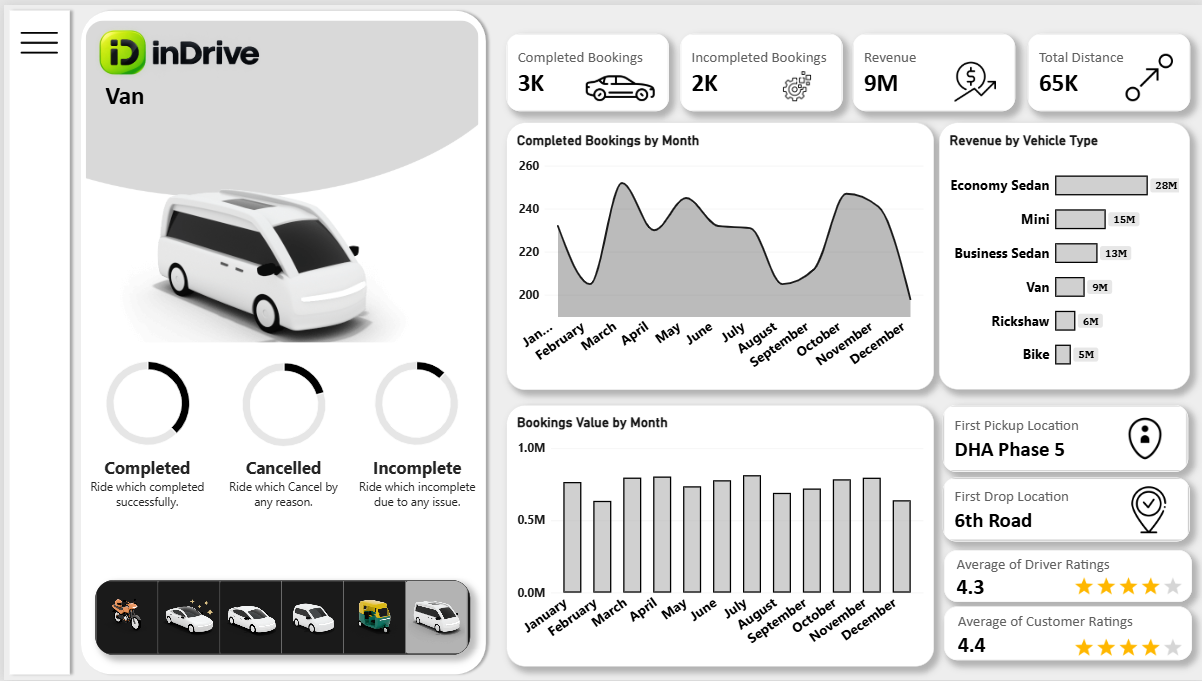

Layout of this report page (visuals, bound fields, positions):
{"tool":"powerbi","page":{"name":"Overview","canvas":[1920,1080],"ordinal":1},"visuals":[{"type":"shape","box":[0,0,114,1080],"z":0},{"type":"image","box":[18,24,80,75.7],"z":1000},{"type":"shape","box":[114,0,666,1080],"z":2000},{"type":"image","box":[130,24,630,478],"z":3000},{"type":"cardVisual","fields":{"Data":["Min(Veh_IMG.Vehicle Type)"]},"box":[14,46,792,494],"z":4000},{"type":"image","box":[146,24,264,106],"z":5000},{"type":"cardVisual","fields":{"Data":["Indrive data.Completed_Bookings"]},"box":[804,46,260,124],"z":6000},{"type":"cardVisual","fields":{"Data":["Indrive data.Incomplete Bookings"]},"box":[1082,46,260,124],"z":7000},{"type":"cardVisual","fields":{"Data":["Indrive data.Bookings Value"]},"box":[1358,46,260,124],"z":8000},{"type":"cardVisual","fields":{"Data":["Indrive data.Total Distance"]},"box":[1638,46,260,124],"z":9000},{"type":"advancedSlicerVisual","fields":{"Values":["Veh_IMG.Vehicle Type"]},"box":[146,920,600,120],"z":10000},{"type":"cardVisual","fields":{"Data":["Min(Veh_IMG.Vehicle Type)"]},"box":[146,100,348,88],"z":11000},{"type":"areaChart","title":"Completed Bookings by Month","fields":{"Category":["Indrive data.Date.Variation.Date Hierarchy.Month"],"Y":["Indrive data.Completed_Bookings"]},"box":[804,188,684,428],"z":12000},{"type":"clusteredColumnChart","fields":{"Category":["Indrive data.Date.Variation.Date Hierarchy.Month"],"Y":["Indrive data.Bookings Value"]},"box":[804,640,684,418],"z":13000},{"type":"clusteredBarChart","title":"Revenue by Vehicle Type","fields":{"Category":["Veh_IMG.Vehicle Type"],"Y":["Indrive data.Bookings Value"]},"box":[1496.2,187.5,401.2,427.5],"z":14000},{"type":"cardVisual","fields":{"Data":["Min(Indrive data.Pickup Location)"]},"box":[1502.5,640,392.5,107.5],"z":15000},{"type":"cardVisual","fields":{"Data":["Min(Indrive data.Drop Location)"]},"box":[1502,756,395,102.5],"z":16000},{"type":"image","box":[1767.5,650,115,87.5],"z":17000},{"type":"image","box":[1774,770,115,75],"z":18000},{"type":"image","box":[905,77.5,160,110],"z":19000},{"type":"image","box":[1212,106,114,48],"z":20000},{"type":"shape","box":[1503.3,871.7,396.7,83.3],"z":21000},{"type":"shape","box":[1503.3,961.7,396.7,86.7],"z":21500},{"type":"image","box":[1496,88,116,66],"z":22000},{"type":"image","box":[1768,78,128,76],"z":24000},{"type":"cardVisual","fields":{"Data":["Avg(Indrive data.Driver Ratings)"]},"box":[1508,876,324,80],"z":25000},{"type":"cardVisual","fields":{"Data":["Avg(Indrive data.Customer Rating)"]},"box":[1510,970,322,78],"z":26000},{"type":"image","box":[1712,882,174,98],"z":26002},{"type":"image","box":[1712,980,174,98],"z":26003},{"type":"donutChart","fields":{"Y":["Indrive data.Unique Booking Count","Indrive data.Remove_Bookings_Status"]},"box":[130,538,200,200],"z":26004},{"type":"donutChart","fields":{"Y":["Indrive data.Unique Booking Count","Indrive data.Remove_Bookings_Status"]},"box":[348,540,200,200],"z":26005},{"type":"donutChart","fields":{"Y":["Indrive data.Unique Booking Count","Indrive data.Remove_Bookings_Status"]},"box":[560,538,200,200],"z":26006},{"type":"textbox","box":[128,722,202,138],"z":26007},{"type":"textbox","box":[560,722,202,138],"z":26008},{"type":"textbox","box":[346,722,202,138],"z":26009}]}

Visuals, with their boxes in screenshot pixels (x1, y1, x2, y2), scaled from the page's 1920x1080 canvas onto the 1202x681 screenshot:
shape: x1=0, y1=0, x2=71, y2=680
image: x1=11, y1=15, x2=61, y2=63
shape: x1=71, y1=0, x2=488, y2=680
image: x1=81, y1=15, x2=476, y2=317
cardVisual - Min(Veh_IMG.Vehicle Type): x1=9, y1=29, x2=505, y2=340
image: x1=91, y1=15, x2=257, y2=82
cardVisual - Indrive data.Completed_Bookings: x1=503, y1=29, x2=666, y2=107
cardVisual - Indrive data.Incomplete Bookings: x1=677, y1=29, x2=840, y2=107
cardVisual - Indrive data.Bookings Value: x1=850, y1=29, x2=1013, y2=107
cardVisual - Indrive data.Total Distance: x1=1025, y1=29, x2=1188, y2=107
advancedSlicerVisual - Veh_IMG.Vehicle Type: x1=91, y1=580, x2=467, y2=656
cardVisual - Min(Veh_IMG.Vehicle Type): x1=91, y1=63, x2=309, y2=119
"Completed Bookings by Month" areaChart: x1=503, y1=119, x2=932, y2=388
clusteredColumnChart - Indrive data.Date.Variation.Date Hierarchy.Month x Indrive data.Bookings Value: x1=503, y1=404, x2=932, y2=667
"Revenue by Vehicle Type" clusteredBarChart: x1=937, y1=118, x2=1188, y2=388
cardVisual - Min(Indrive data.Pickup Location): x1=941, y1=404, x2=1186, y2=471
cardVisual - Min(Indrive data.Drop Location): x1=940, y1=477, x2=1188, y2=541
image: x1=1107, y1=410, x2=1179, y2=465
image: x1=1111, y1=486, x2=1183, y2=533
image: x1=567, y1=49, x2=667, y2=118
image: x1=759, y1=67, x2=830, y2=97
shape: x1=941, y1=550, x2=1189, y2=602
shape: x1=941, y1=606, x2=1189, y2=661
image: x1=937, y1=55, x2=1009, y2=97
image: x1=1107, y1=49, x2=1187, y2=97
cardVisual - Avg(Indrive data.Driver Ratings): x1=944, y1=552, x2=1147, y2=603
cardVisual - Avg(Indrive data.Customer Rating): x1=945, y1=612, x2=1147, y2=661
image: x1=1072, y1=556, x2=1181, y2=618
image: x1=1072, y1=618, x2=1181, y2=680
donutChart - Indrive data.Unique Booking Count x Indrive data.Remove_Bookings_Status: x1=81, y1=339, x2=207, y2=465
donutChart - Indrive data.Unique Booking Count x Indrive data.Remove_Bookings_Status: x1=218, y1=340, x2=343, y2=467
donutChart - Indrive data.Unique Booking Count x Indrive data.Remove_Bookings_Status: x1=351, y1=339, x2=476, y2=465
textbox: x1=80, y1=455, x2=207, y2=542
textbox: x1=351, y1=455, x2=477, y2=542
textbox: x1=217, y1=455, x2=343, y2=542
